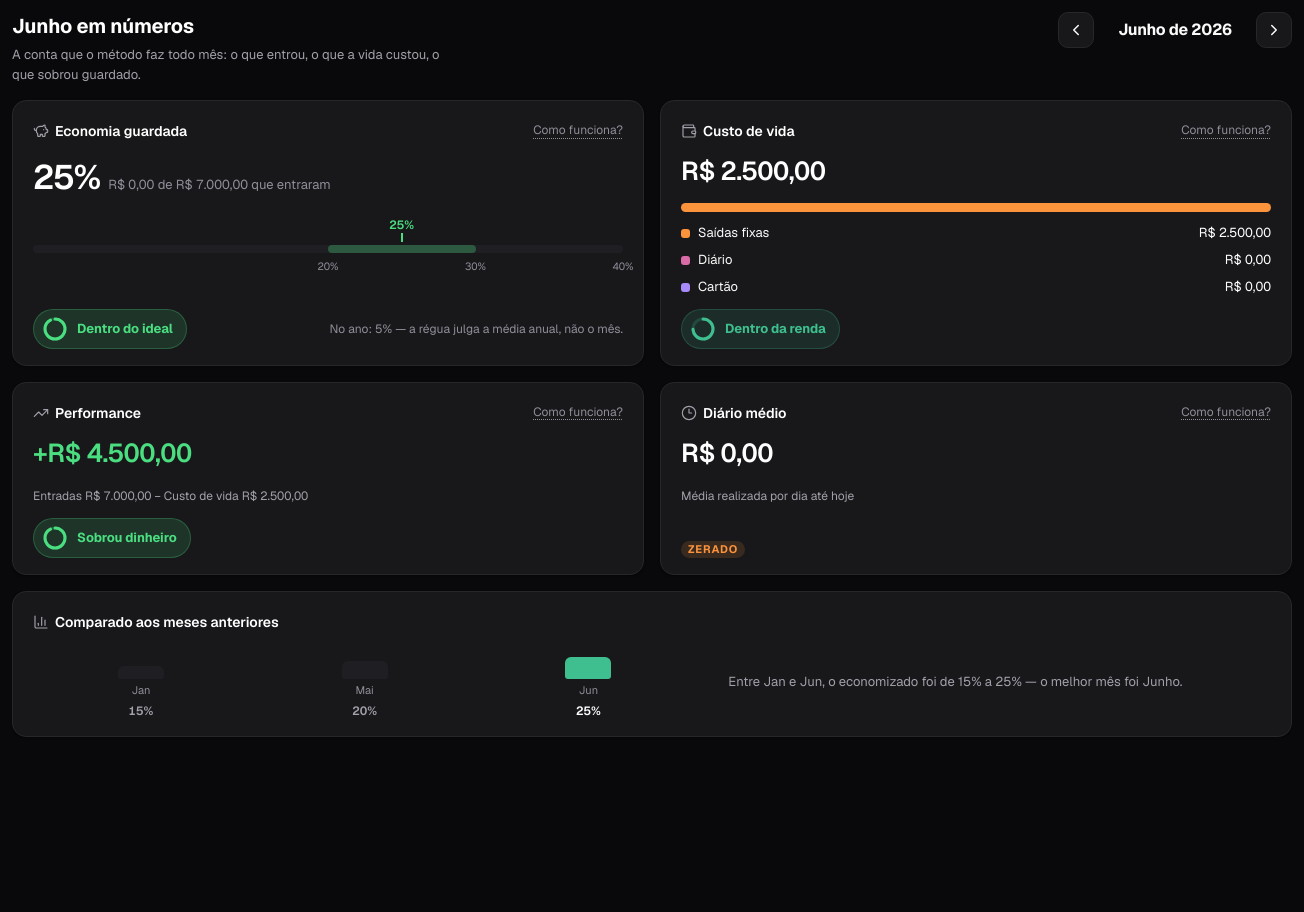
Test: TotaisScreen (render) › seletor de mês: avança para o próximo mês e volta ao hoje
Expected: the heading "Performance" is shown, x1=55 y1=402 x2=141 y2=423
Expected: the text "Junho de 2026" is shown, x1=1118 y1=19 x2=1232 y2=40
Click the button named "Próximo mês" at (1274, 30), box x1=1256 y1=12 x2=1292 y2=48
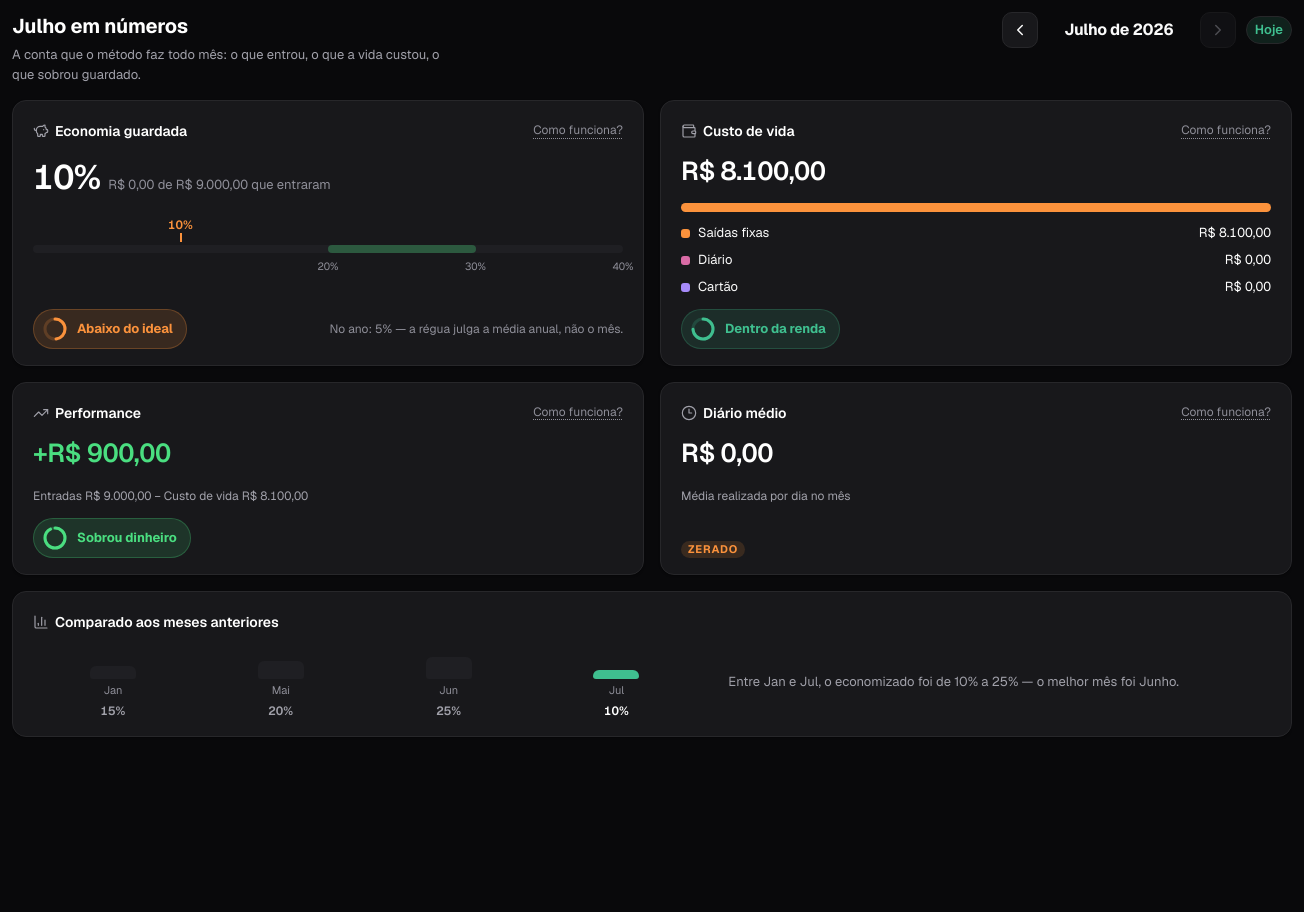
Now the text "Julho de 2026" is shown, box x1=1064 y1=19 x2=1173 y2=40
Click the button "Hoje" at (1269, 30), box x1=1246 y1=16 x2=1292 y2=44
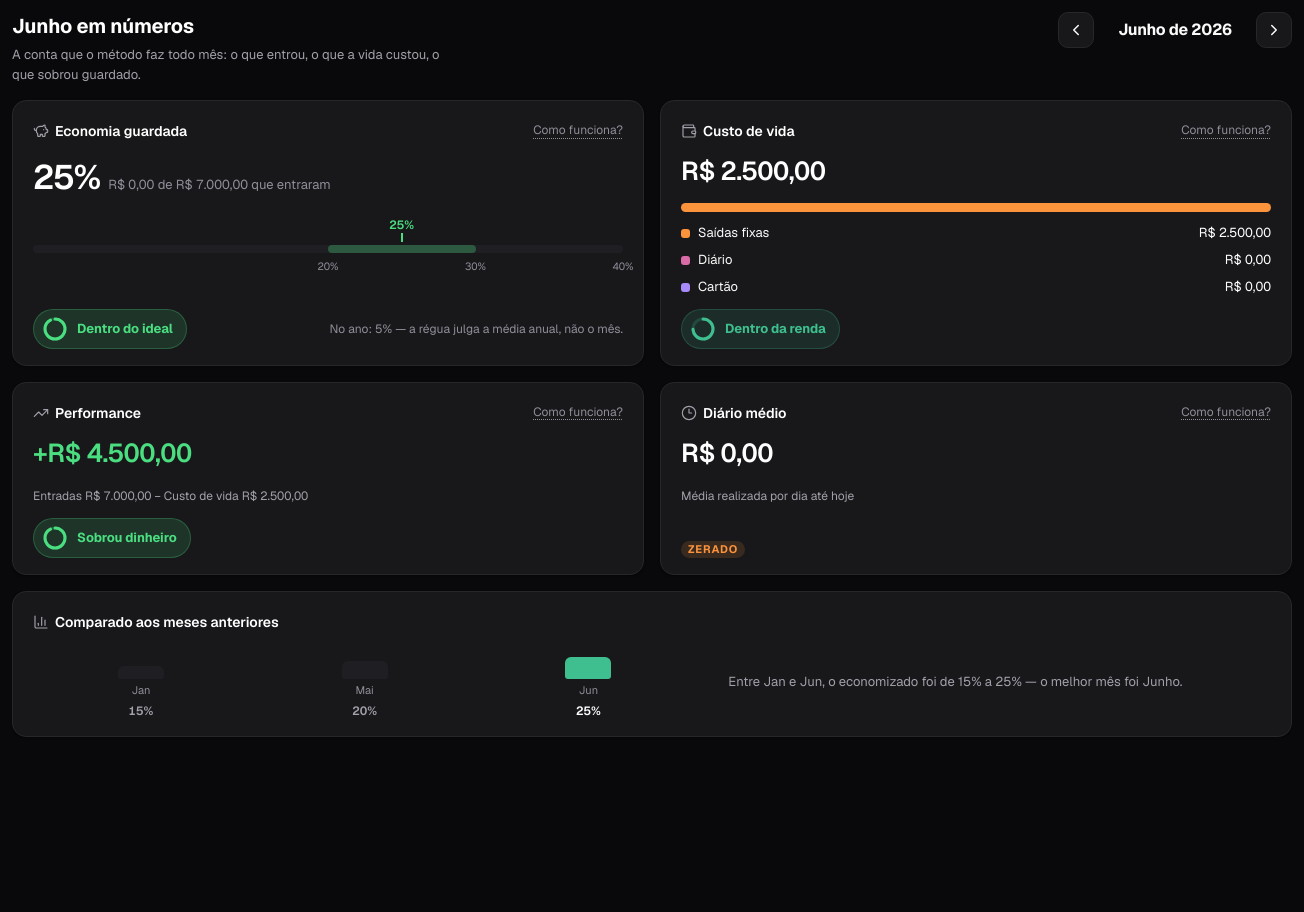
Now the text "Junho de 2026" is shown, box x1=1118 y1=19 x2=1232 y2=40
